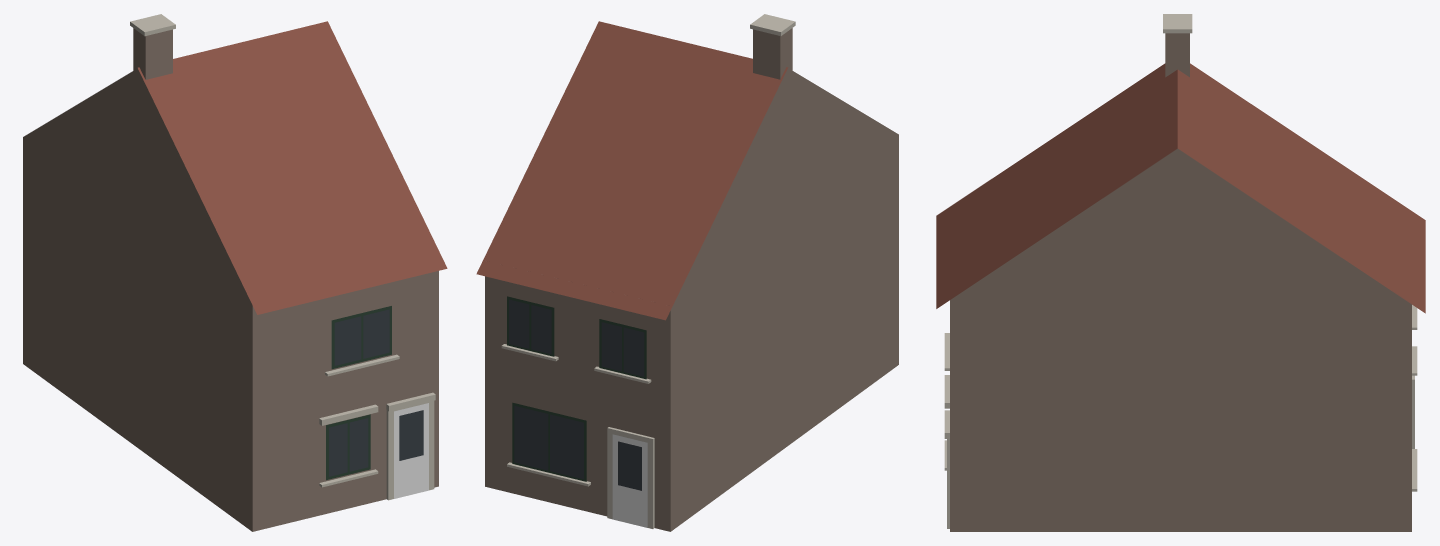
Rendered from nw-ma-green__paff__2__gable__long__solid__mirror.glb.
The picture shows the model from 3 angles, left to right: view 1: azimuth 30°, elevation 25°; view 2: azimuth 150°, elevation 25°; view 3: azimuth 270°, elevation 25°; orthographic projection.
Parts seen in each view (by area): view 1: nw-ma-green__paff__2__gable__long__solid__mirror; view 2: nw-ma-green__paff__2__gable__long__solid__mirror; view 3: nw-ma-green__paff__2__gable__long__solid__mirror.
Part boxes in pixels (<box>): nw-ma-green__paff__2__gable__long__solid__mirror: <box>23,14,447,531</box>; nw-ma-green__paff__2__gable__long__solid__mirror: <box>476,14,898,531</box>; nw-ma-green__paff__2__gable__long__solid__mirror: <box>936,14,1425,531</box>.
Bounding box in the file's own units: 4.89 × 10.37 × 10.8.
